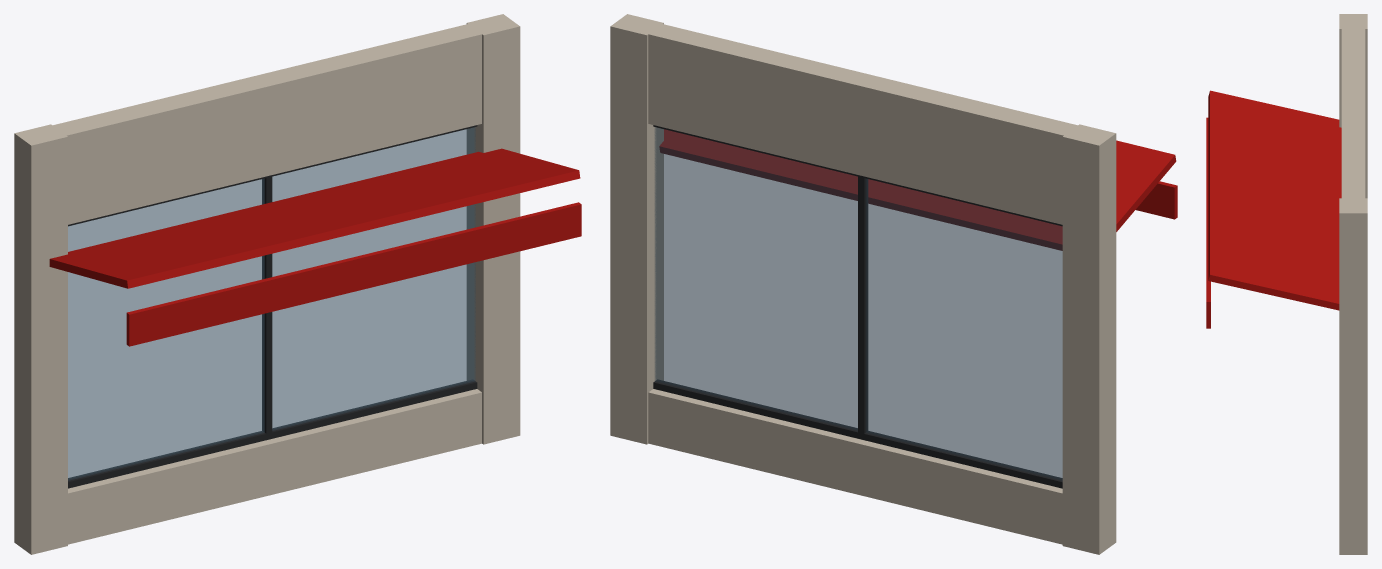
File: KIT_Storefront_4m_Plaster_Red.glb
The picture shows the model from 3 angles, left to right: view 1: azimuth 30°, elevation 25°; view 2: azimuth 150°, elevation 25°; view 3: azimuth 270°, elevation 25°; orthographic projection. The views are drawn at different scales.
Visible parts, largest first — view 1: KIT_Storefront_4m_Plaster_Red; view 2: KIT_Storefront_4m_Plaster_Red; view 3: KIT_Storefront_4m_Plaster_Red.
Boxes of the visible parts, x1=… form: KIT_Storefront_4m_Plaster_Red: x1=14, y1=14, x2=581, y2=554; KIT_Storefront_4m_Plaster_Red: x1=610, y1=14, x2=1177, y2=554; KIT_Storefront_4m_Plaster_Red: x1=1206, y1=14, x2=1367, y2=554.
Size of the model in its own units: 4 by 3.2 by 1.37.
